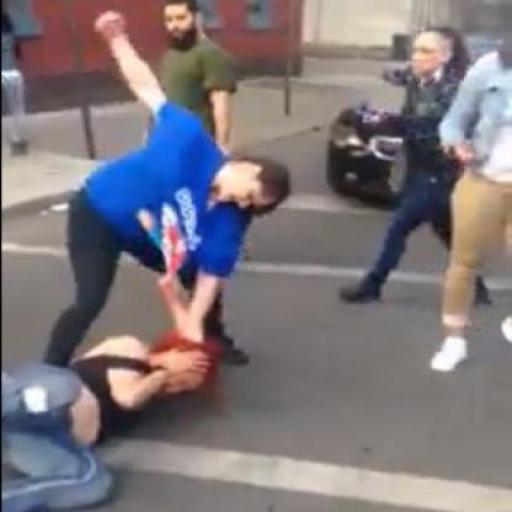Fighting: (60, 2, 286, 457)
